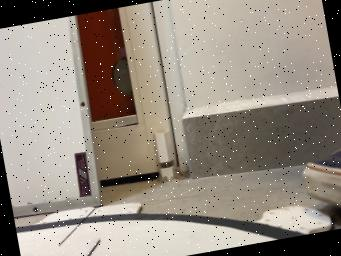street: (15, 213, 304, 256), (15, 213, 304, 256), (15, 213, 304, 256)
